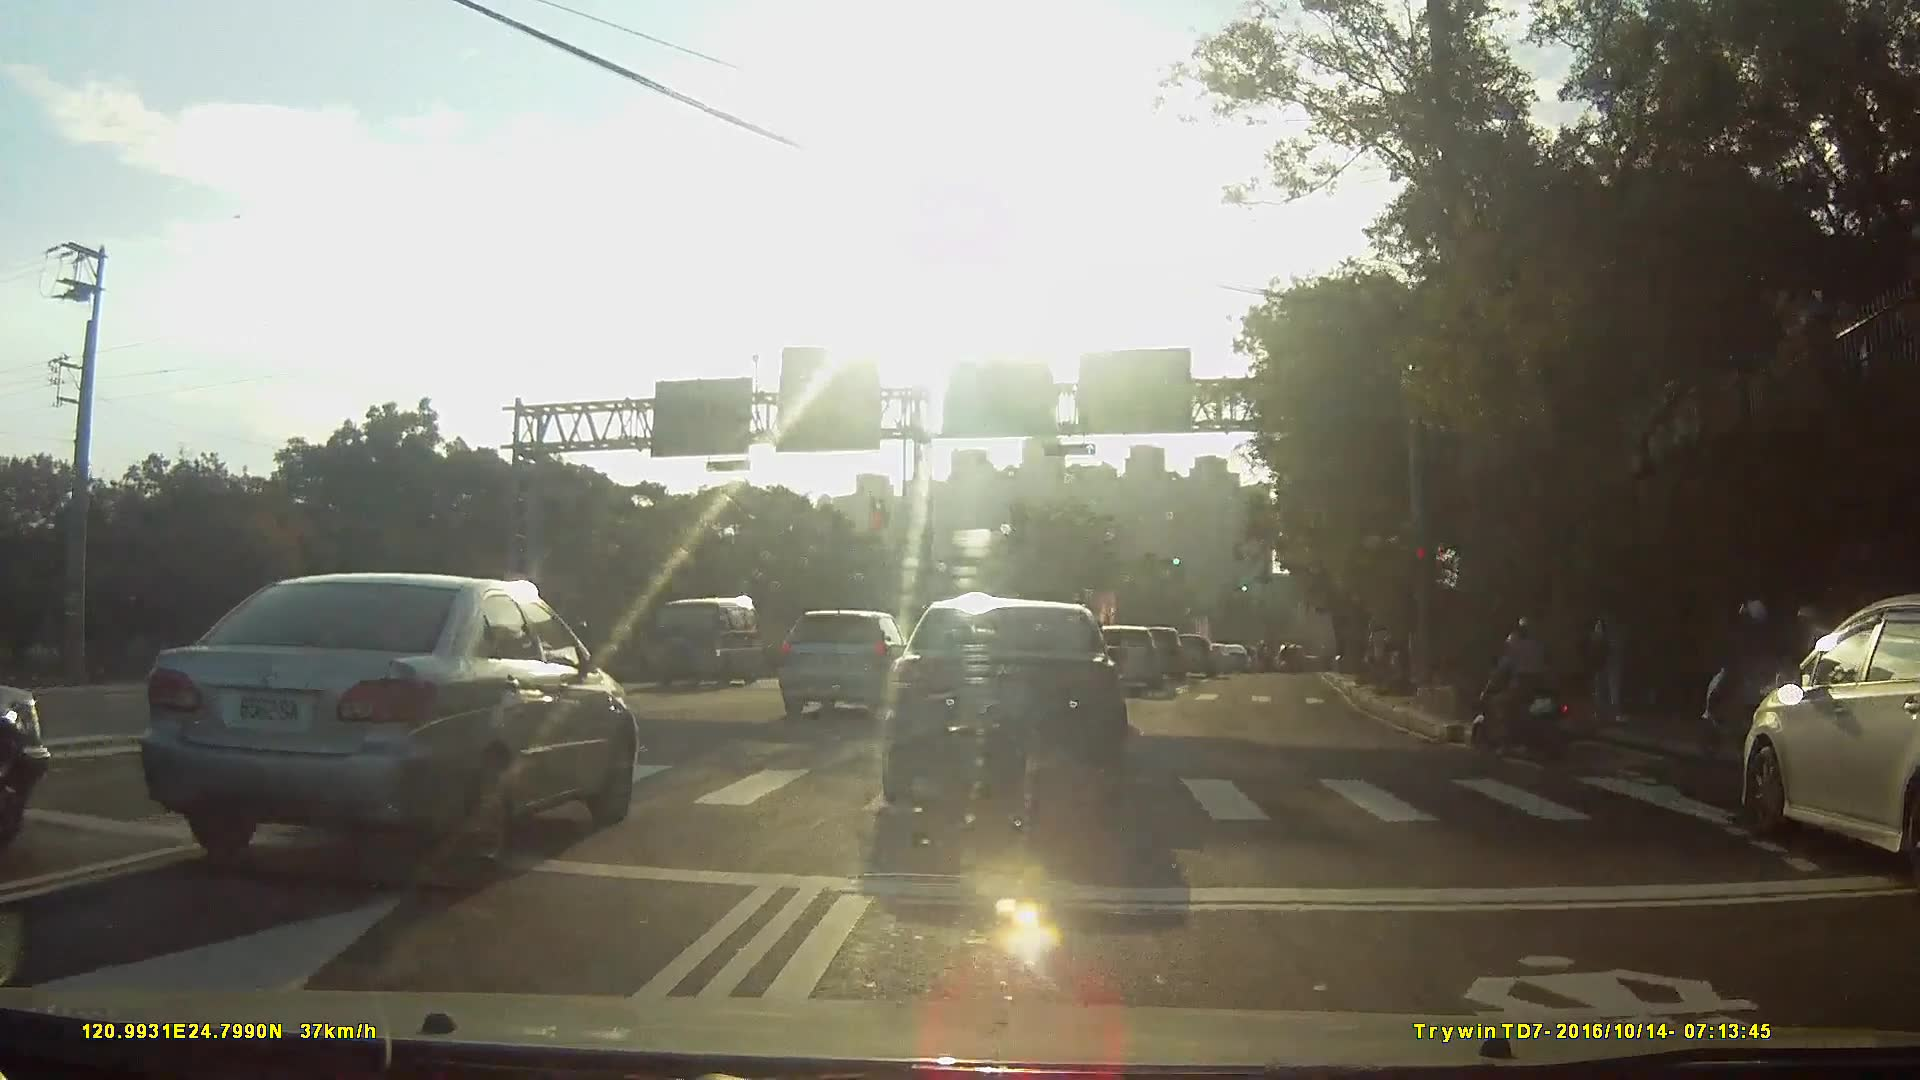pedestrian: (1583, 592, 1629, 724)
rider: (1476, 616, 1591, 764), (1710, 597, 1817, 750)
vehicle: (129, 571, 650, 875), (885, 592, 1133, 814), (1732, 598, 1920, 876), (784, 604, 927, 714), (649, 590, 776, 694), (1093, 622, 1167, 692), (1130, 623, 1192, 681), (1173, 632, 1223, 678), (1218, 643, 1255, 672)
